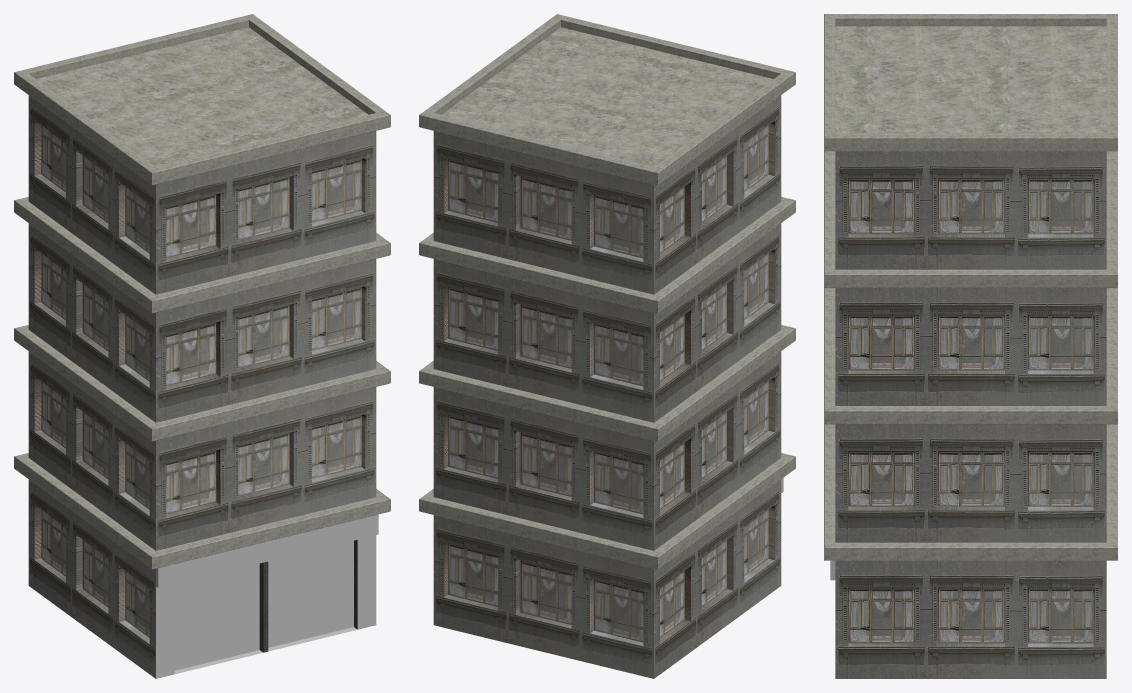
Rendered from CT_door_022.fbx.
3 views of the same model, side by side, from view 1: azimuth 30°, elevation 25°; view 2: azimuth 150°, elevation 25°; view 3: azimuth 270°, elevation 25° (orthographic). The views are drawn at different scales.
Visible parts, largest first — view 1: CT_door_022; view 2: CT_door_022; view 3: CT_door_022.
Part boxes in pixels (left/top/right/bottom): CT_door_022: left=14, top=14, right=390, bottom=678; CT_door_022: left=419, top=14, right=795, bottom=678; CT_door_022: left=824, top=14, right=1117, bottom=678.
Bounding box in the file's own units: 555 × 1138 × 555.
